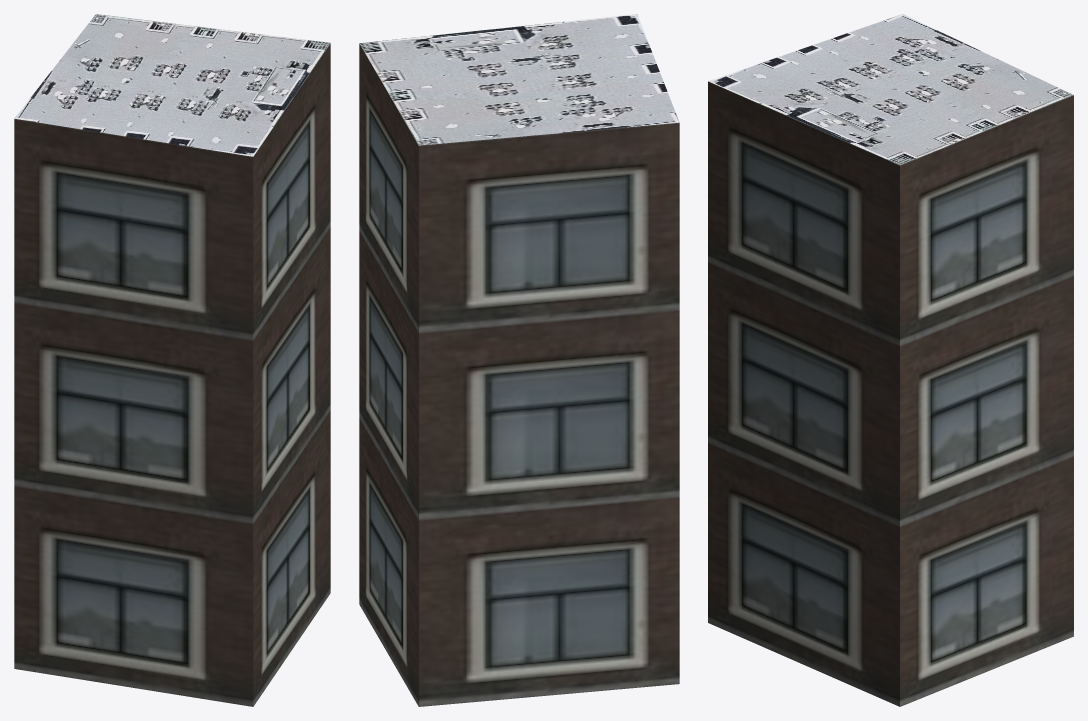
File: ResTex__3083.fbx
3 renders of one model, left to right at view 1: azimuth 30°, elevation 25°; view 2: azimuth 150°, elevation 25°; view 3: azimuth 270°, elevation 25°, orthographic. The views are drawn at different scales.
Parts seen in each view (by area): view 1: CityEngineMaterial_16_m, CityEngineMaterial_15_m; view 2: CityEngineMaterial_16_m, CityEngineMaterial_15_m; view 3: CityEngineMaterial_16_m, CityEngineMaterial_15_m.
Boxes of the visible parts, x1,y1,x2,y2 form: CityEngineMaterial_16_m: (14, 43, 330, 706); CityEngineMaterial_15_m: (14, 14, 330, 156); CityEngineMaterial_16_m: (359, 43, 679, 706); CityEngineMaterial_15_m: (359, 14, 679, 145); CityEngineMaterial_16_m: (708, 81, 1073, 706); CityEngineMaterial_15_m: (708, 14, 1073, 165).
Bounding box in the file's own units: 5.4 × 9 × 5.51.
Materials: 2 (2 with a texture image).
